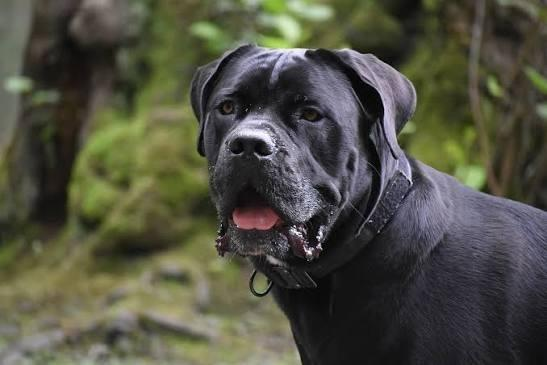adult_dog: (187, 39, 547, 365)
